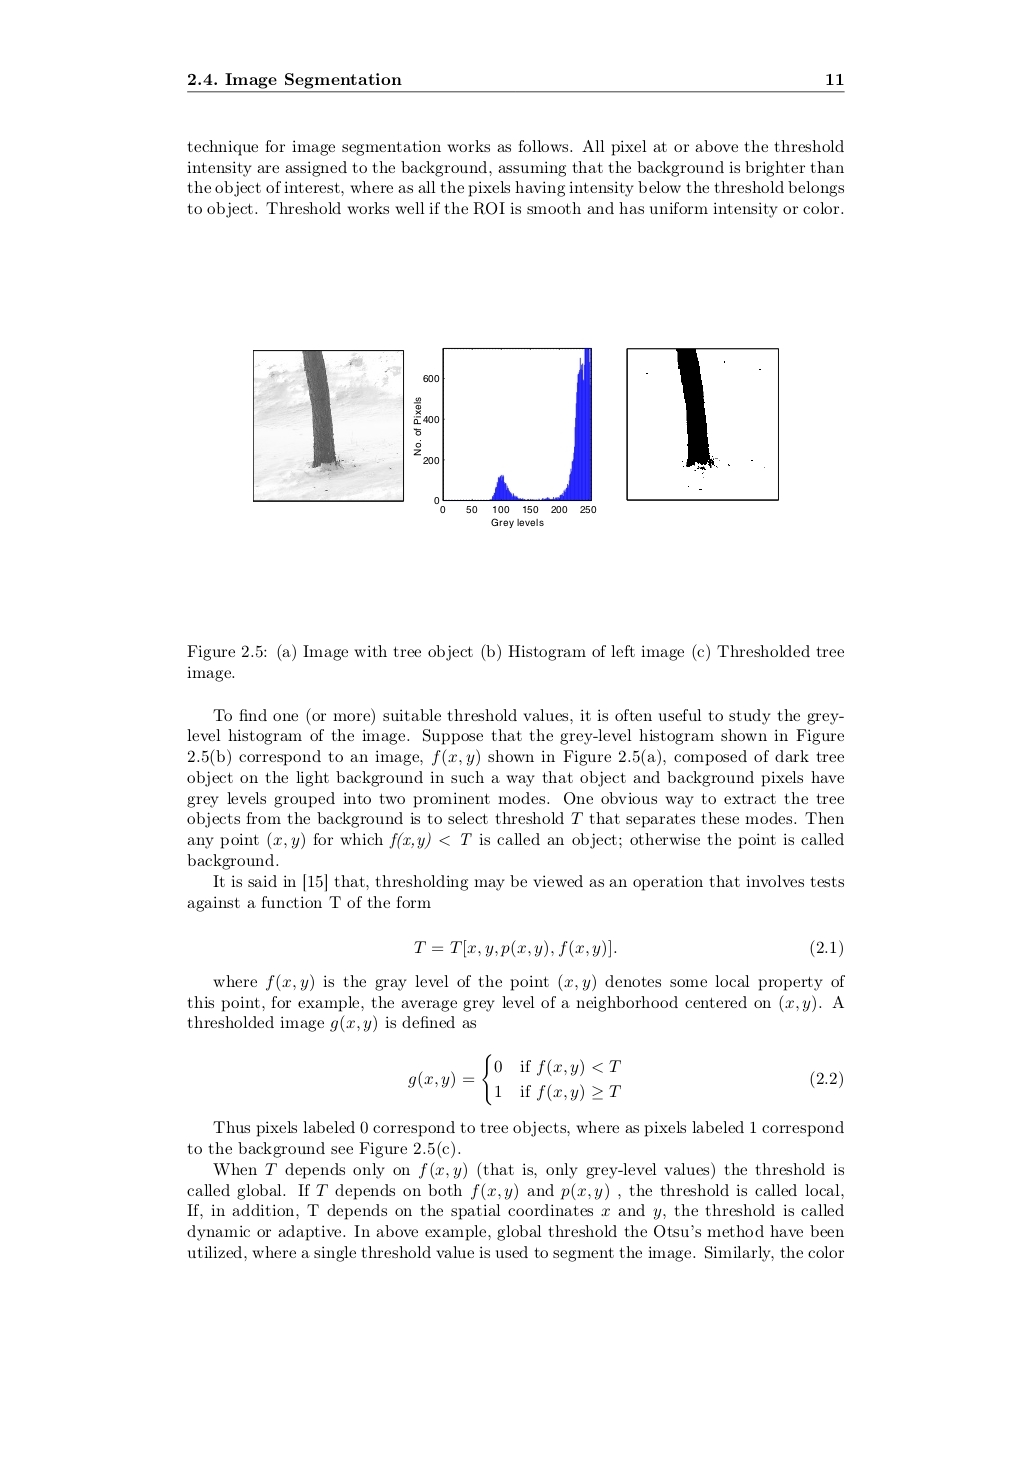figure: (413, 347, 596, 526), (626, 348, 778, 500), (253, 350, 403, 501)
formula: (408, 1053, 842, 1107), (414, 938, 842, 958)
